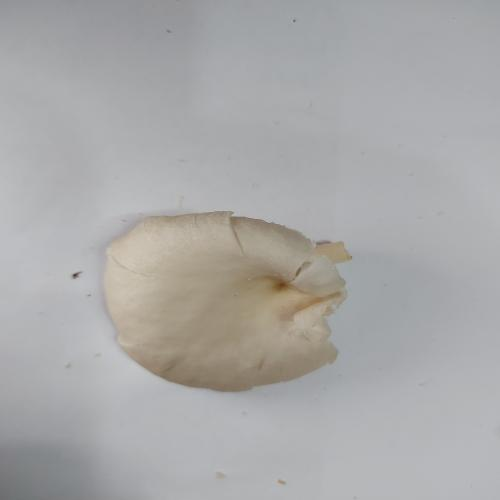Oyster Mushroom: (102, 210, 353, 393)
